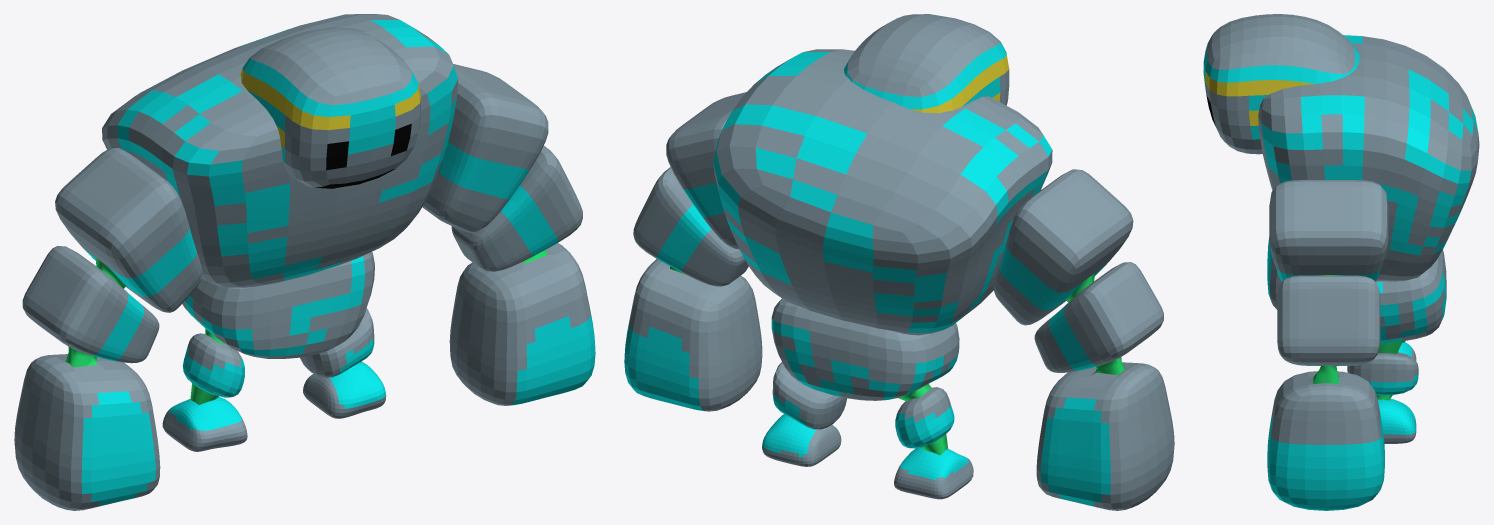
File: Golem2.1.fbx
3 views of the same model, side by side, from view 1: azimuth 30°, elevation 25°; view 2: azimuth 150°, elevation 25°; view 3: azimuth 270°, elevation 25° (orthographic). The views are drawn at different scales.
Visible parts, largest first — view 1: Body.001; view 2: Body.001; view 3: Body.001.
Boxes of the visible parts, x1=… form: Body.001: x1=14, y1=14, x2=595, y2=510; Body.001: x1=624, y1=14, x2=1174, y2=510; Body.001: x1=1203, y1=14, x2=1479, y2=510.
Size of the model in its own units: 339 by 253 by 166.
